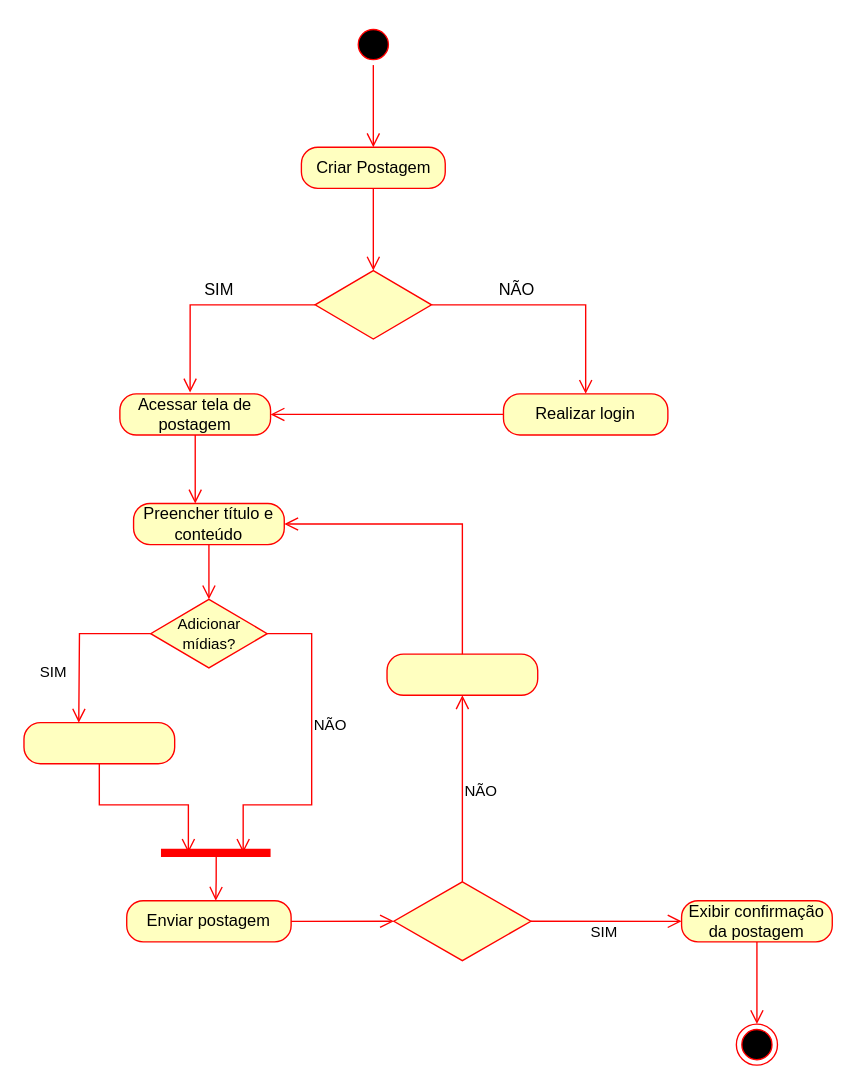
This 856x1089 diagram has some shape labels left out. The centre of each missing label's shape, as x and y in pixels:
"Dados estão válidos ?" goes at (x=462, y=920).
"Exibir mensagem de erro" goes at (x=462, y=674).
"Selecionar Mídias" goes at (x=99, y=742).
"Usuário logado ?" goes at (x=373, y=304).
